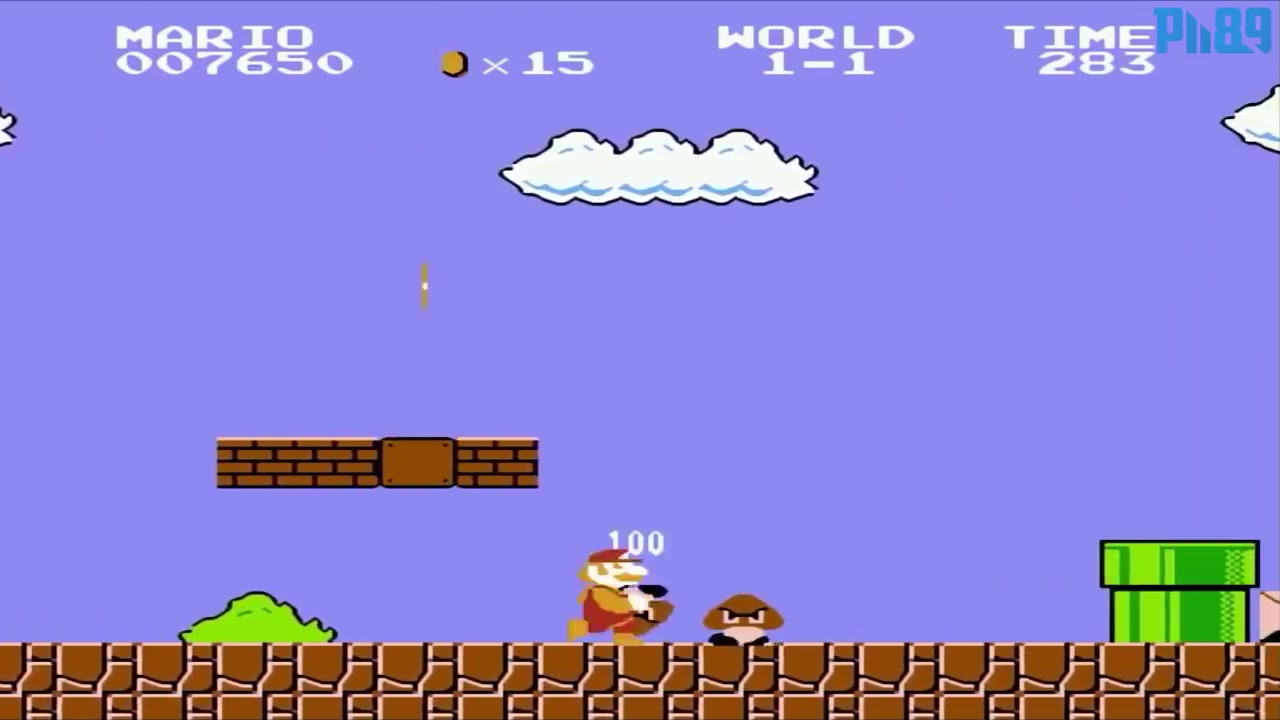mario: (564, 540, 649, 644)
